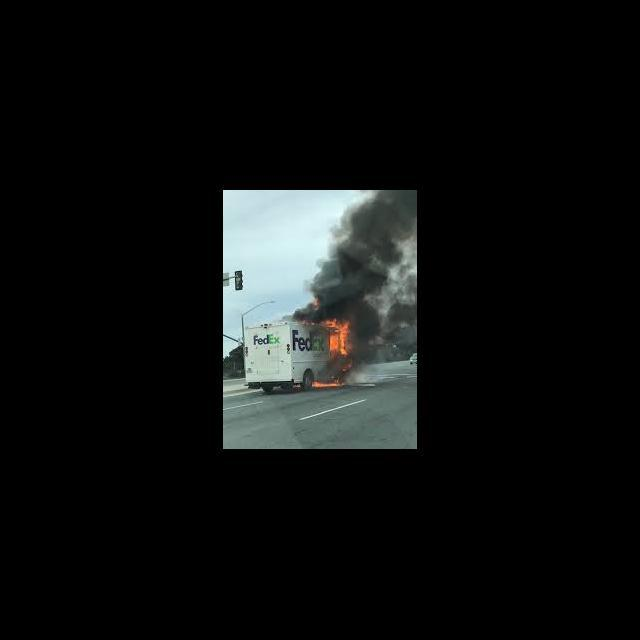Fire: (324, 318, 352, 358), (311, 381, 347, 391), (310, 296, 320, 310)
Smoke: (309, 190, 417, 382)
